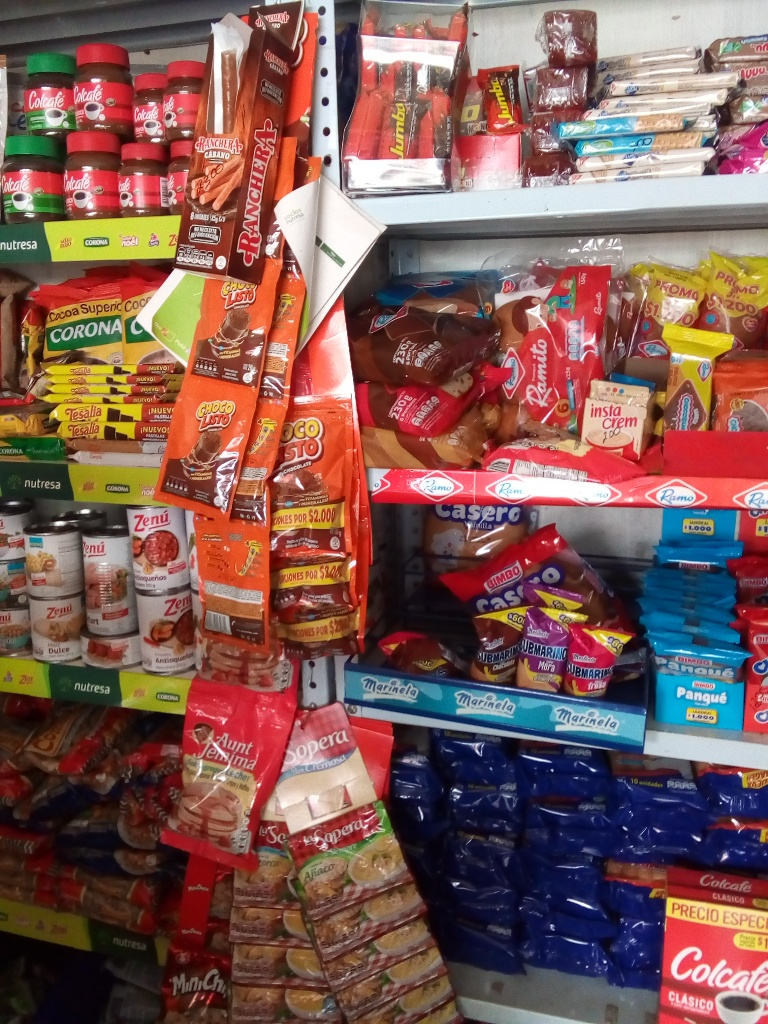COL0170103SOB02000: (189, 262, 286, 387)
